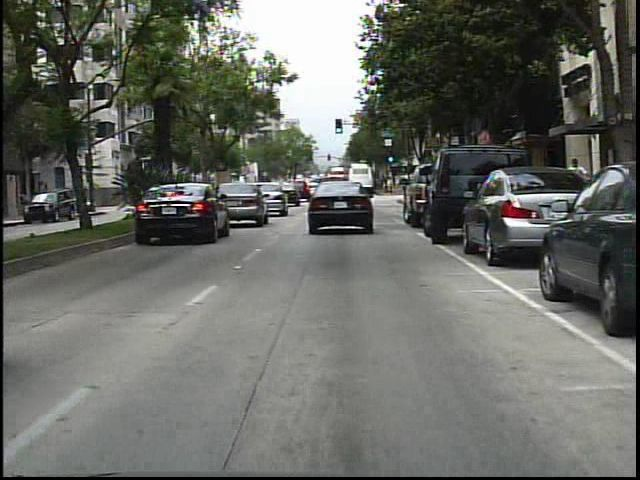person: (564, 155, 589, 220)
